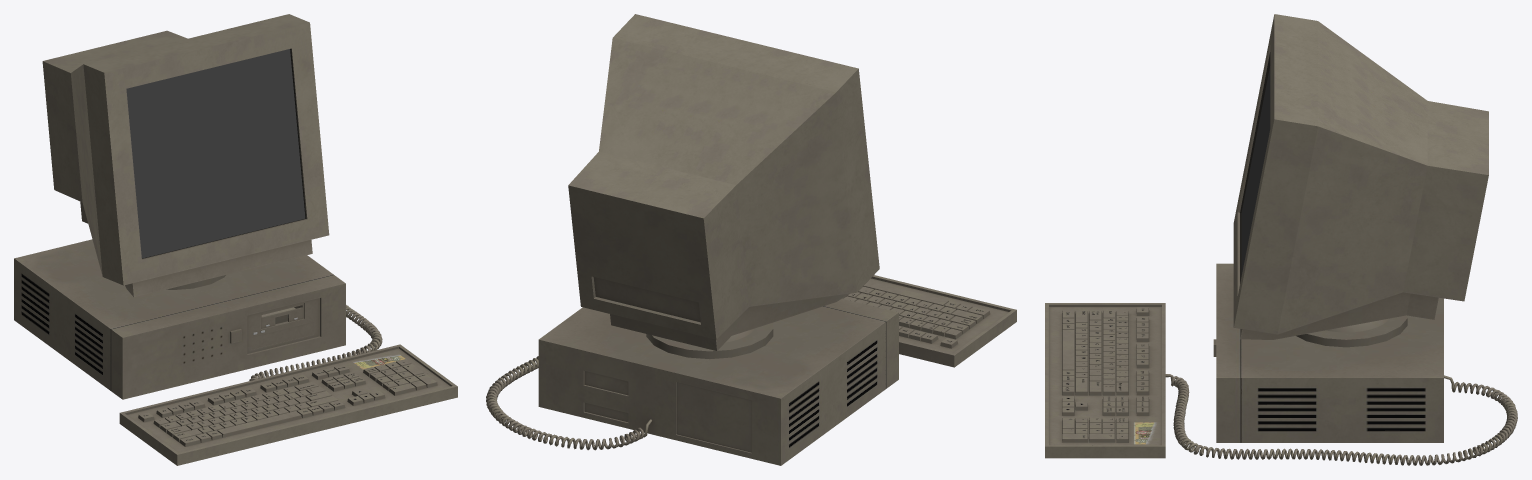
3 renders of one model, left to right at view 1: azimuth 30°, elevation 25°; view 2: azimuth 150°, elevation 25°; view 3: azimuth 270°, elevation 25°, orthographic. The views are drawn at different scales.
Parts seen in each view (by area): view 1: comp, screen_window, screen, body, space; view 2: comp, body, space; view 3: comp, body, screen_window, screen, space.
Boxes of the visible parts, x1,y1,x2,y2 form: comp: (14, 14, 345, 399); screen_window: (126, 48, 305, 258); screen: (127, 49, 304, 257); body: (119, 305, 457, 465); space: (217, 411, 301, 437); comp: (538, 14, 898, 465); body: (486, 275, 1016, 450); space: (863, 281, 948, 305); comp: (1216, 14, 1488, 442); body: (1045, 303, 1517, 465); screen_window: (1240, 52, 1270, 283); screen: (1242, 69, 1269, 271); space: (1062, 329, 1074, 372).
Bounding box in the file's own units: 0.6492 × 0.6347 × 0.8504.
Materials: 3 (3 with a texture image).
